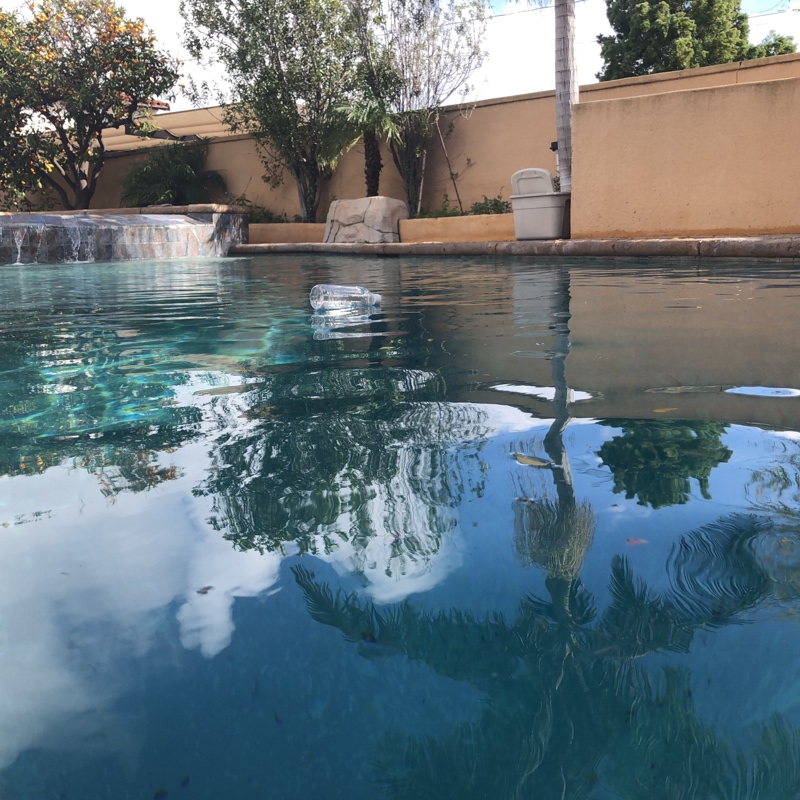Plastic Bottle: (306, 280, 383, 314)
